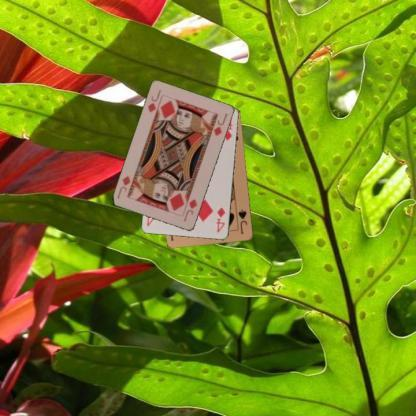4d: (214, 205, 226, 234)
Jd: (145, 86, 162, 115), (181, 196, 199, 223)
Js: (236, 208, 248, 236)
